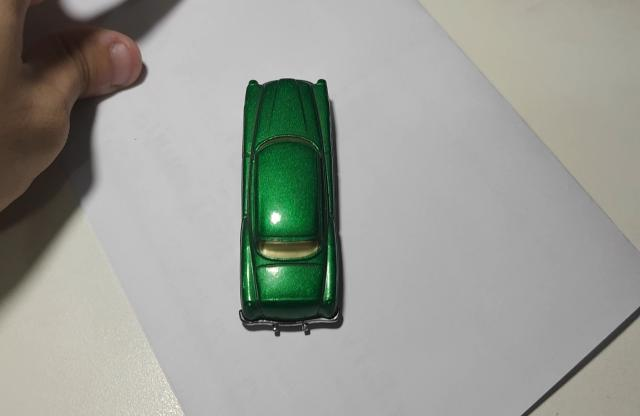06_MASERATI: (238, 79, 346, 336)
